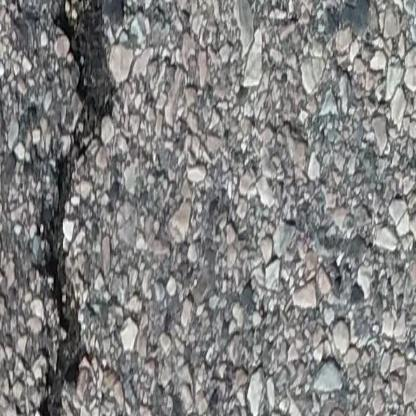Cracks: (33, 0, 128, 416)
